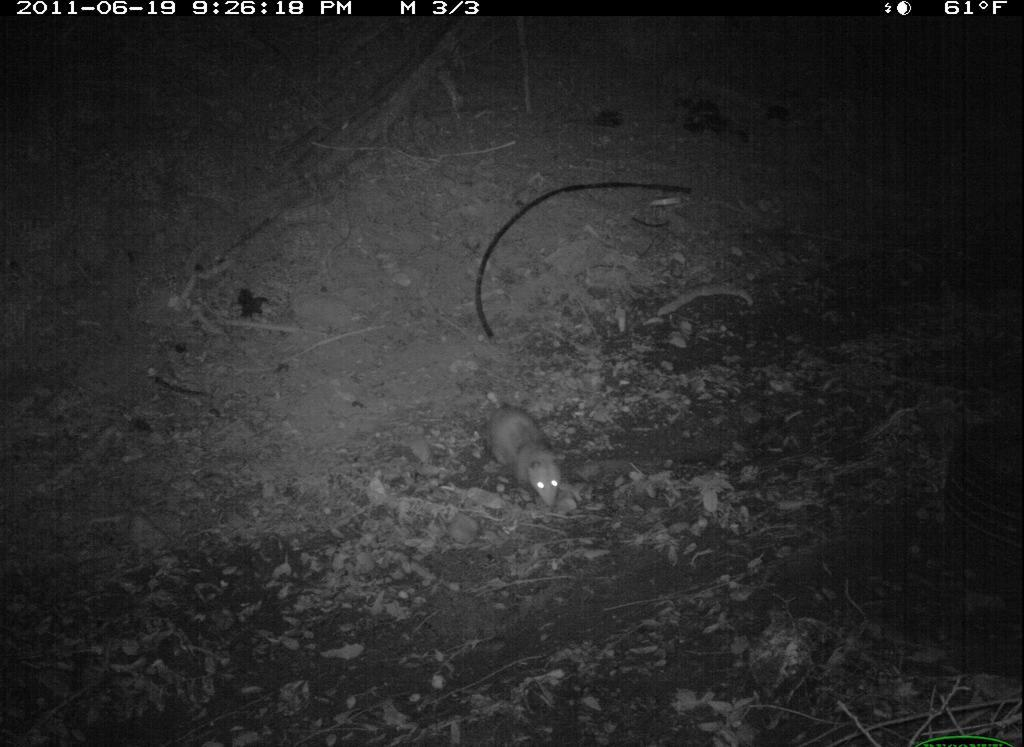opossum: (463, 388, 600, 524)
